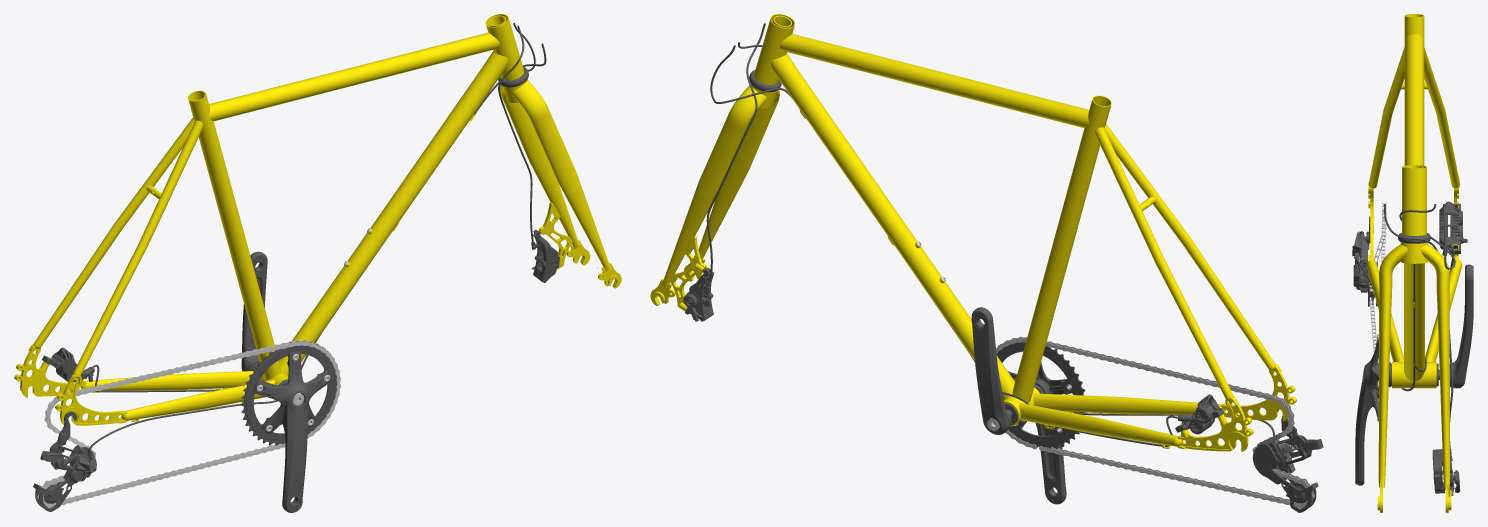
File: Mango_DOG_Frame.glb
The picture shows the model from 3 angles, left to right: view 1: azimuth 30°, elevation 25°; view 2: azimuth 150°, elevation 25°; view 3: azimuth 270°, elevation 25°; orthographic projection. The views are drawn at different scales.
Parts seen in each view (by area): view 1: no_transformations (×9); view 2: no_transformations (×9); view 3: no_transformations (×10).
Part boxes in pixels (<box>): no_transformations (×9): <box>14,14,621,512</box>; no_transformations (×9): <box>650,14,1323,512</box>; no_transformations (×10): <box>1352,14,1473,512</box>.
Bounding box in the file's own units: 1086 × 737 × 185.
